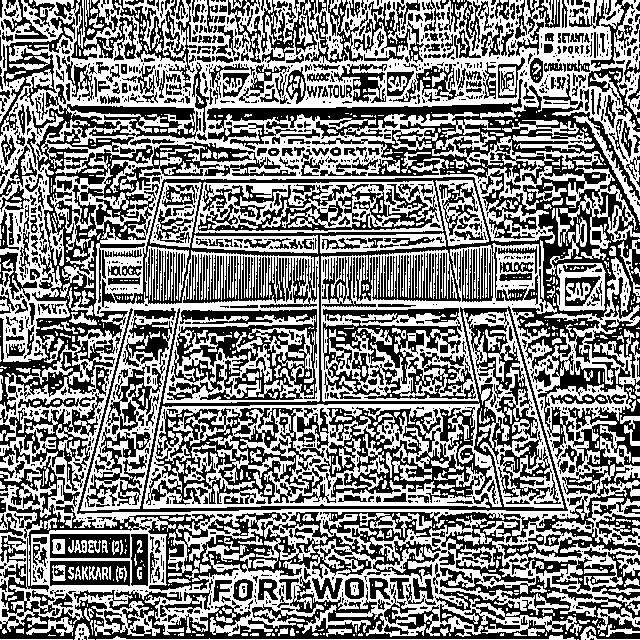left side: (434, 178, 567, 509), (77, 180, 203, 512)
player: (471, 384, 498, 506), (191, 59, 210, 140)
